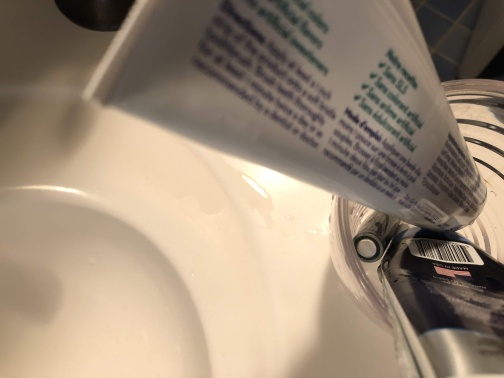battery: (349, 194, 405, 267)
